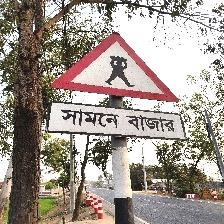Market-in-front: (47, 31, 186, 141)
